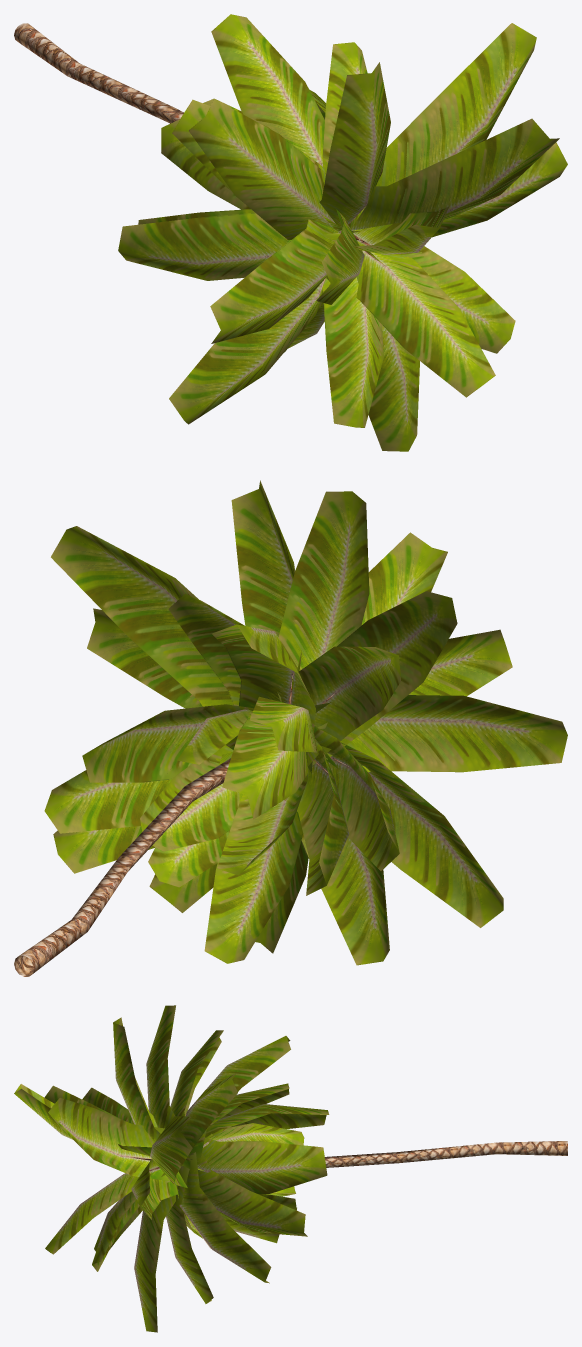
Rendered from tree-1.gltf.
3 renders of one model, top to bottom at view 1: azimuth 30°, elevation 25°; view 2: azimuth 150°, elevation 25°; view 3: azimuth 270°, elevation 25°, orthographic. The views are drawn at different scales.
Visible parts, largest first — view 1: tree.016; view 2: tree.016; view 3: tree.016.
Boxes of the visible parts, x1=… form: tree.016: x1=14, y1=14, x2=567, y2=451; tree.016: x1=14, y1=480, x2=567, y2=976; tree.016: x1=14, y1=1005, x2=567, y2=1332.
Size of the model in its own units: 5.59 by 5.56 by 9.66.
1 material, 1 textured.
